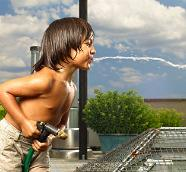Spitting: (26, 8, 112, 90)
